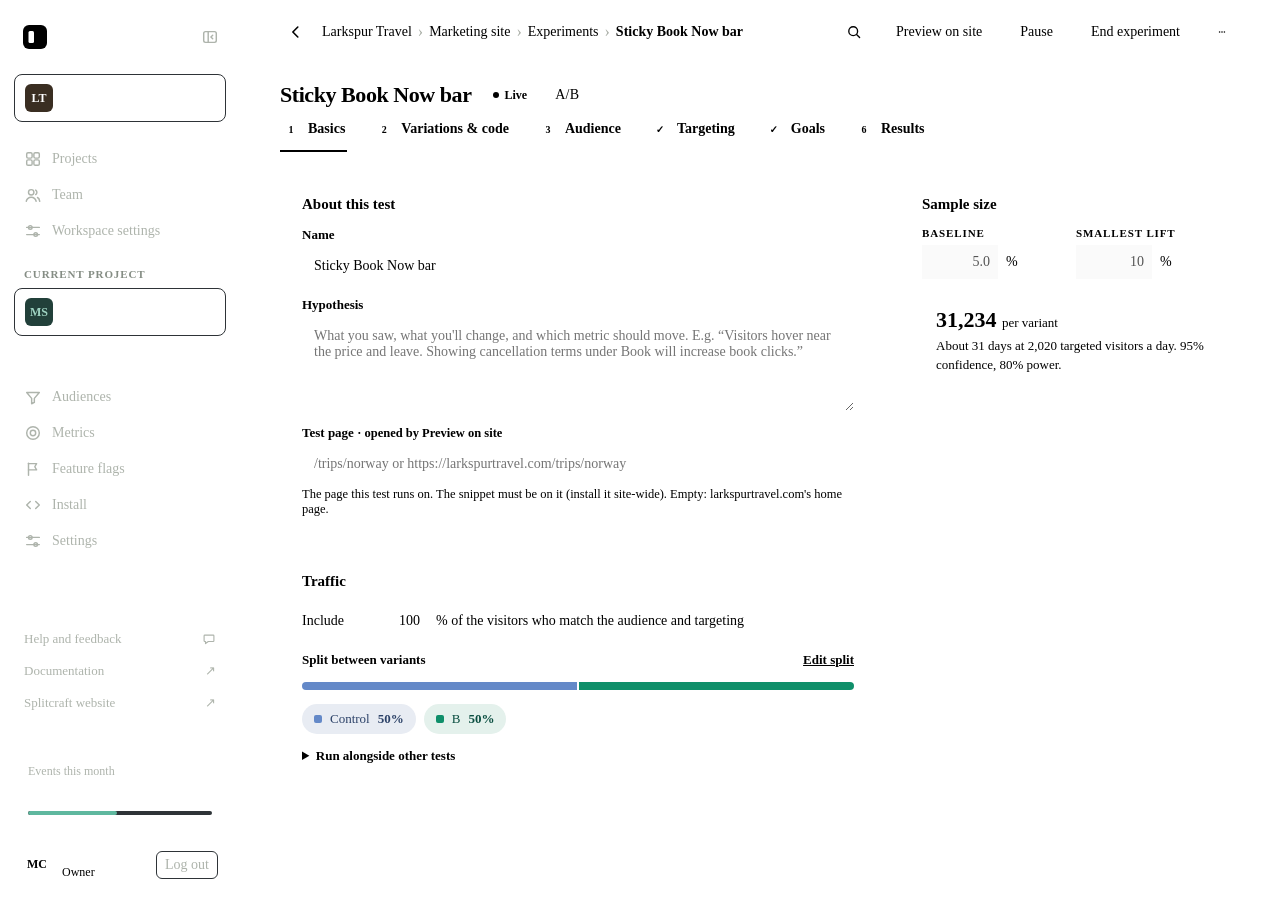
Test: experiment actions menu › duplicates into a new draft and opens it
The image size is (1280, 900).
Expected: the navigation bar named "Experiment steps" is shown, [280,108,925,152]
What coordinates should you click on to do the following:
click the button named "More actions"
I would click on:
 (1222, 32)
Its box is [1204,14,1240,50].
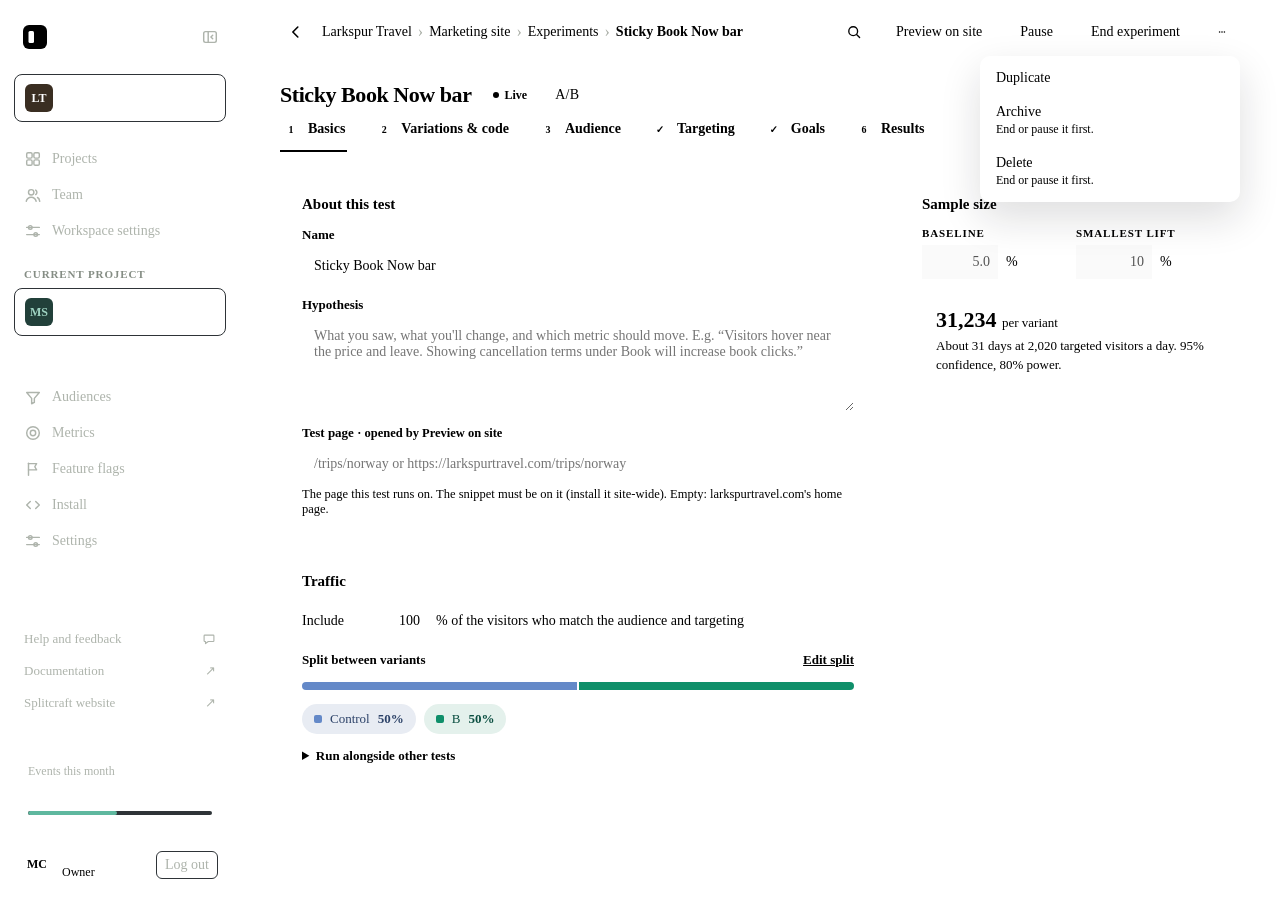
What coordinates should you click on to do the following:
click the menu item "Duplicate"
I would click on:
 (1110, 78)
Its box is [986,62,1234,94].
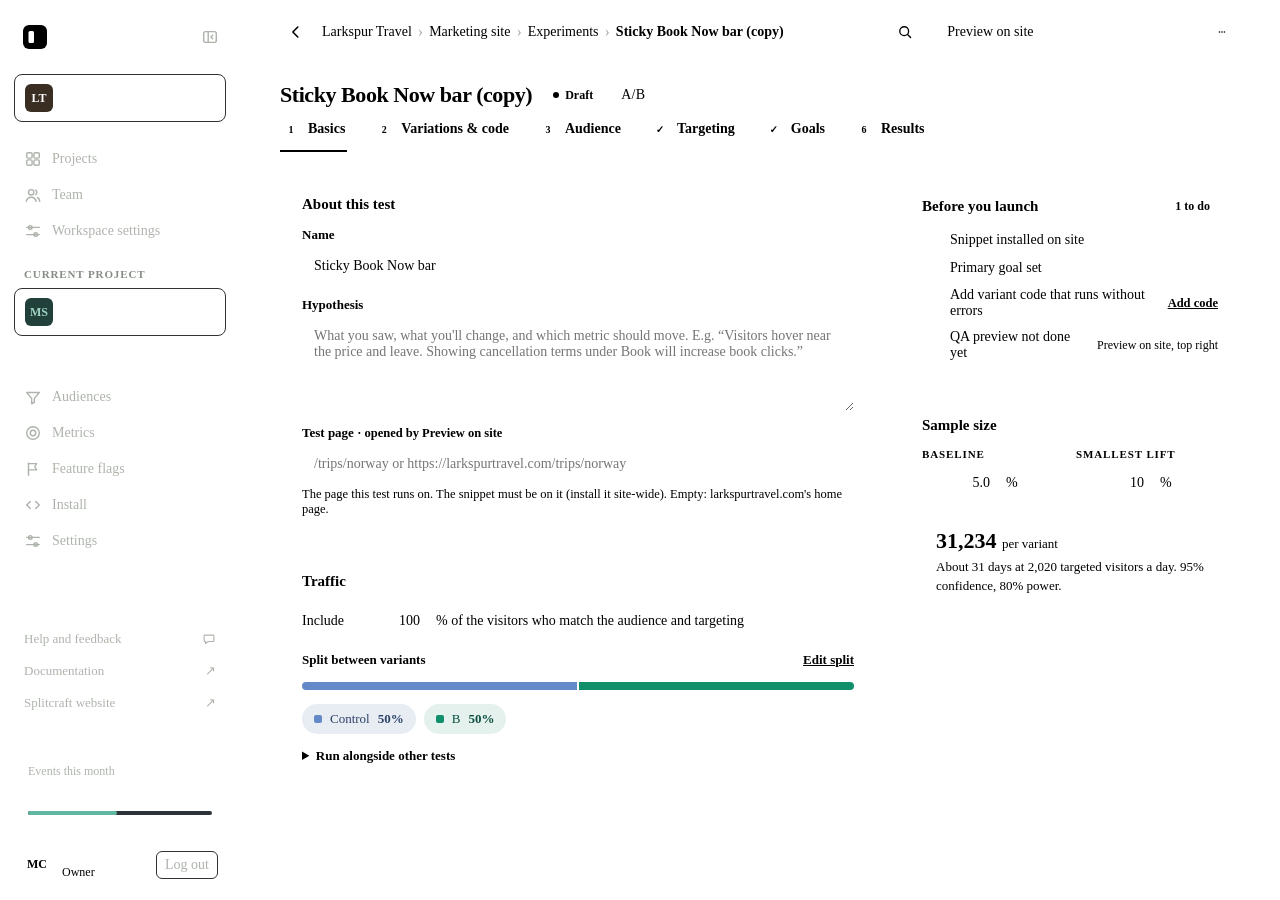
Expected: the heading "Sticky Book Now bar (copy)" is shown, [280,82,532,108]
Expected: the text "Draft" is shown, [553,88,593,102]
